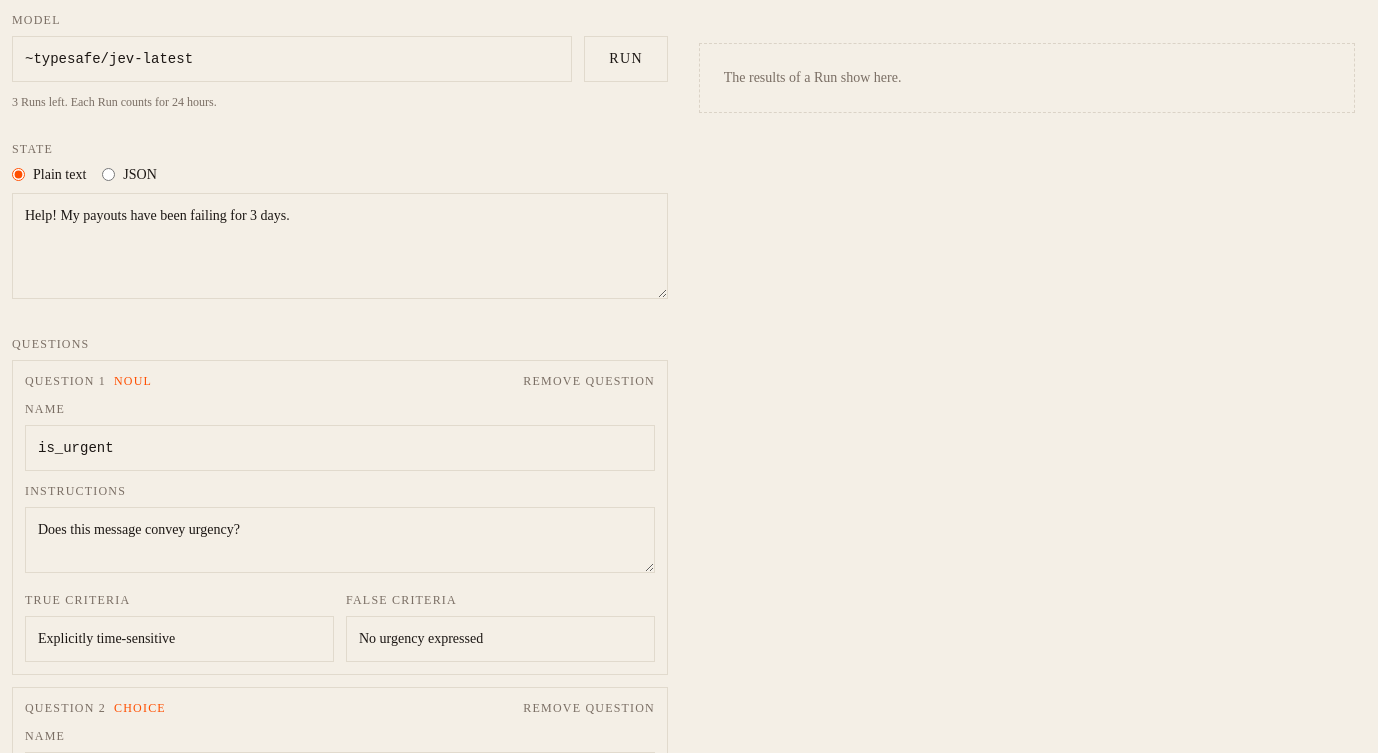
Test: Options panel: noul questions › Runs left › shows the Runs left, and one fewer after a Run
Expected: the text "3 Runs left. Each Run counts for 24 hours." is shown, [12,95,217,109]
Click the button "Run" at (626, 59), box [584,36,668,82]
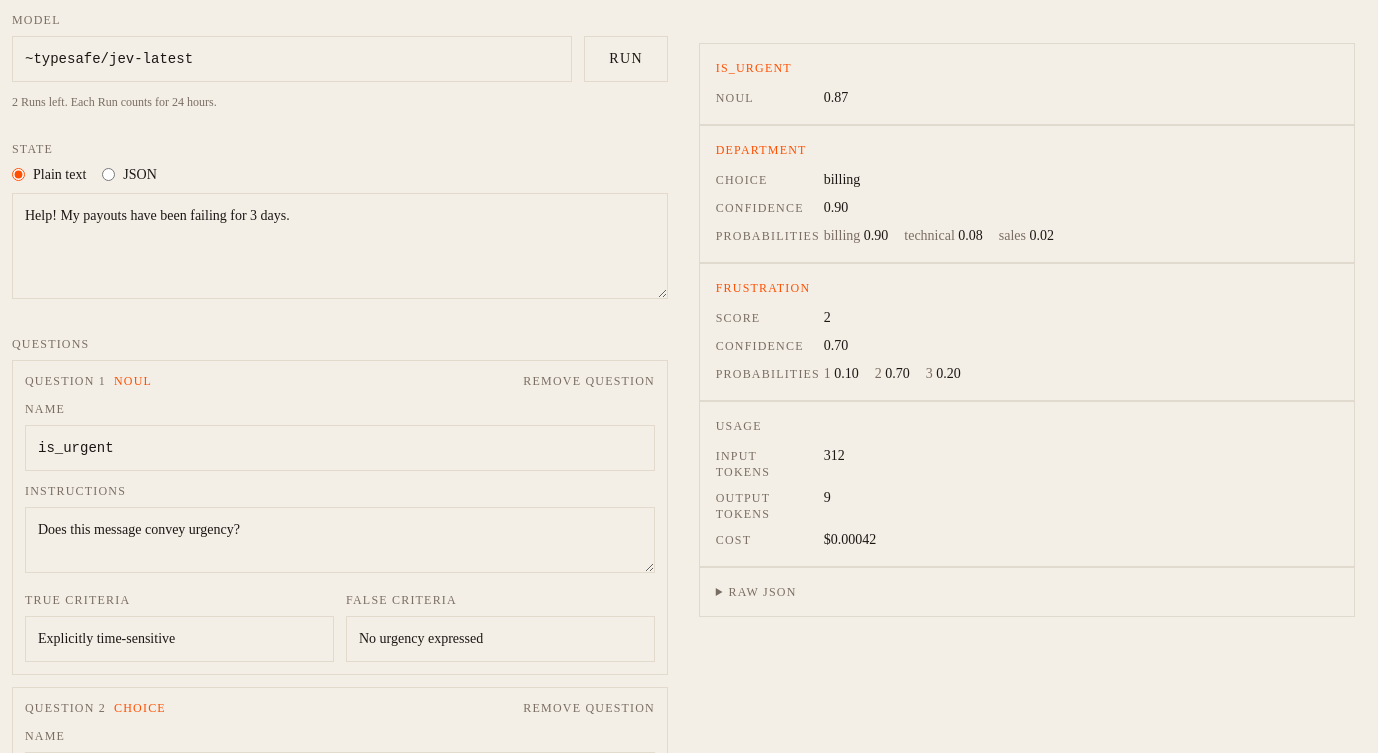
Result: the text "2 Runs left. Each Run counts for 24 hours." is shown at [12,95,217,109]
